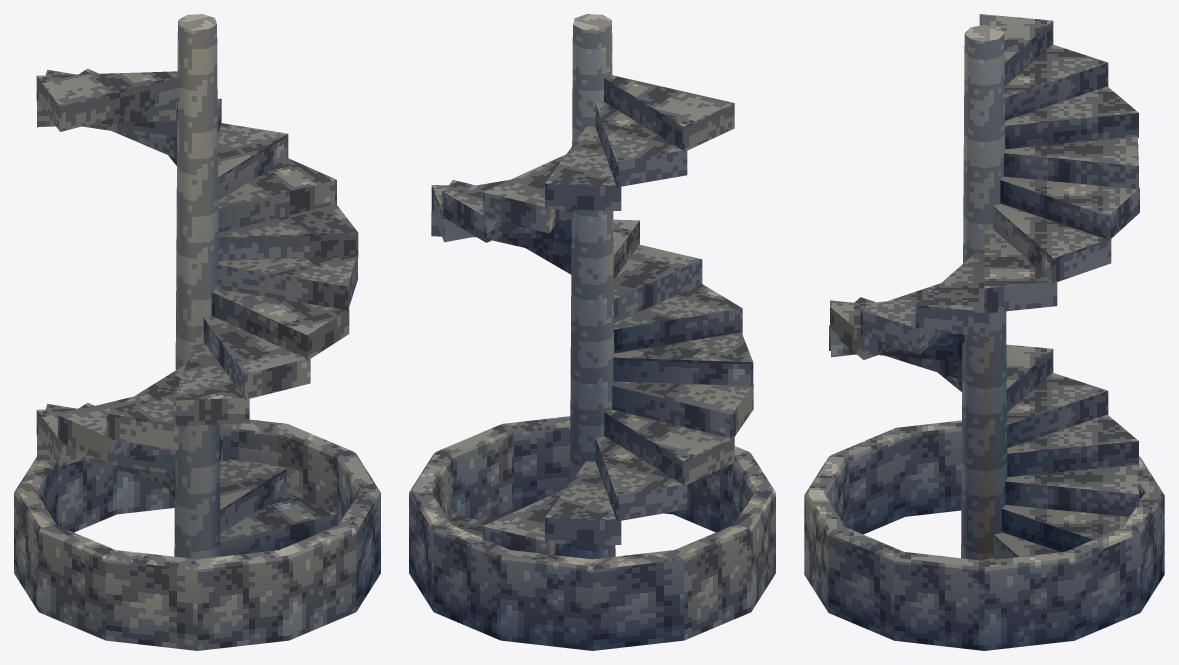
File: cst.spiral_stair__tall.glb
The picture shows the model from 3 angles, left to right: view 1: azimuth 30°, elevation 25°; view 2: azimuth 150°, elevation 25°; view 3: azimuth 270°, elevation 25°; orthographic projection.
Parts seen in each view (by area): view 1: kit_steps, kit_drum, kit_newel; view 2: kit_steps, kit_drum, kit_newel; view 3: kit_steps, kit_drum, kit_newel.
Boxes of the visible parts, x1,y1,x2,y2 form: kit_steps: (36,68,358,556); kit_drum: (14,419,380,650); kit_newel: (174,14,220,559); kit_steps: (431,75,753,556); kit_drum: (409,416,775,650); kit_newel: (569,14,615,559); kit_steps: (829,14,1139,560); kit_drum: (804,420,1164,650); kit_newel: (961,25,1007,560).
Size of the model in its own units: 3.98 by 6.6 by 3.98.
Materials: 3 (3 with a texture image).
